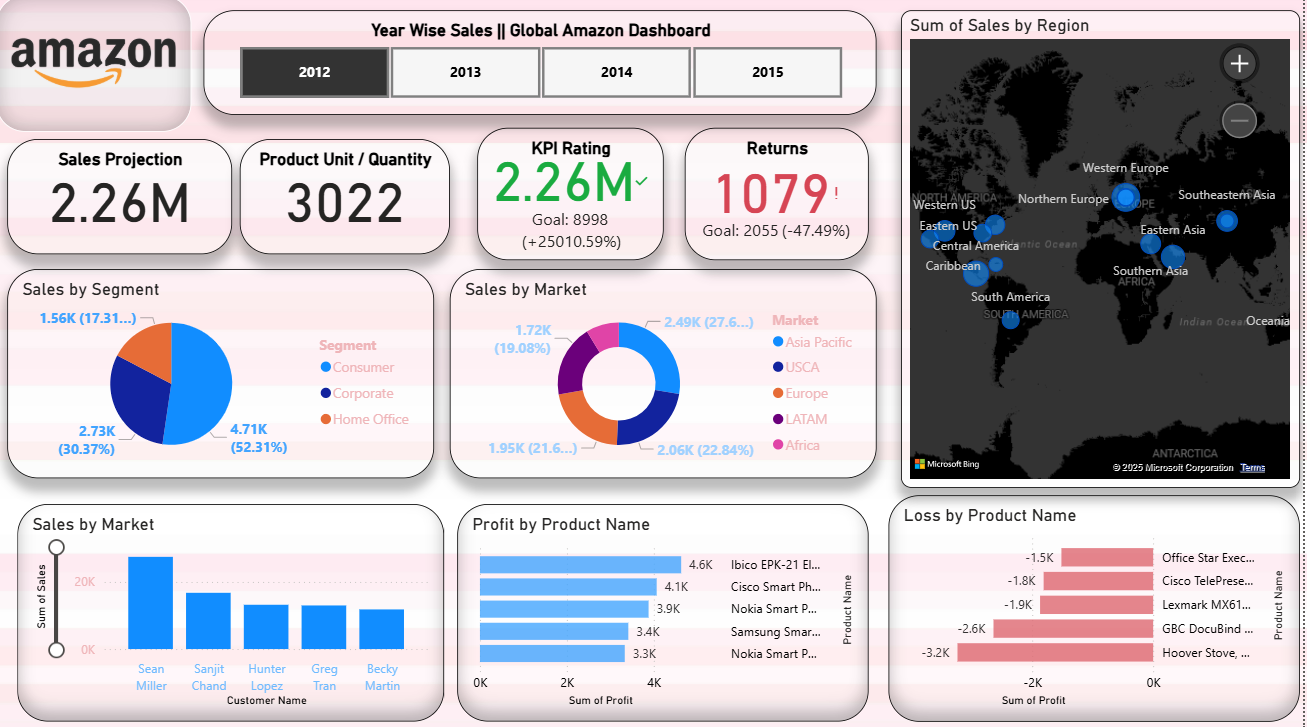

The dashboard page shown, as its layout file describes it:
{"tool":"powerbi","page":{"name":"Duplicate of Page 1","canvas":[1280,720],"ordinal":1},"visuals":[{"type":"slicer","title":"Year Wise Sales || Global Amazon Dashboard","fields":{"Values":["Orders.Year"]},"box":[202.5,16.2,658.8,102.5],"z":0},{"type":"kpi","title":"Returns","fields":{"Indicator":["Returns.Returned"],"Goal":["Orders.Target year"],"TrendLine":["Orders.Market"]},"box":[673.8,130.8,179.8,129.6],"z":1000},{"type":"kpi","title":"KPI Rating","fields":{"Indicator":["Orders.Sales"],"TrendLine":["Orders.Year"],"Goal":["Orders.Target year"]},"box":[470.8,130.8,182.2,129.6],"z":2000},{"type":"card","title":"Sales Projection","fields":{"Values":["Orders.Sales"]},"box":[11.2,141.2,220,112.5],"z":3000},{"type":"card","title":"Product Unit / Quantity","fields":{"Values":["Orders.Product Name"]},"box":[238.5,141.8,205.4,112.5],"z":4000},{"type":"image","box":[0,1.2,191.2,133.8],"z":5000},{"type":"pieChart","title":"Sales by Segment","fields":{"Y":["Orders.Year"],"Category":["Orders.Segment"]},"box":[11.2,268.8,417.5,205],"z":6000},{"type":"donutChart","title":"Sales by Market","fields":{"Y":["Orders.Year"],"Category":["Orders.Market"]},"box":[443.8,268.8,417.5,205],"z":7000},{"type":"clusteredBarChart","title":"Loss by Product Name","fields":{"Category":["Orders.Product Name"],"Y":["Orders.Profit"]},"box":[872.5,490,402.5,221.2],"z":8000},{"type":"clusteredBarChart","title":"Profit by Product Name","fields":{"Category":["Orders.Product Name"],"Y":["Orders.Profit"]},"box":[451.2,498.8,402.5,212.5],"z":9000},{"type":"map","fields":{"Category":["Orders.Region"],"Size":["Orders.Sales"]},"box":[885,16.2,390,467.5],"z":10000},{"type":"columnChart","title":"Sales by Market","fields":{"Category":["Orders.Customer Name"],"Y":["Orders.Sales"]},"box":[21.2,498.8,417.5,212.5],"z":11000}]}

Visuals, with their boxes in screenshot pixels (x1, y1, x2, y2), scaled from the page's 1280x720 canvas onto the 1307x727 screenshot:
"Year Wise Sales || Global Amazon Dashboard" slicer: bbox=(207, 16, 879, 120)
"Returns" kpi: bbox=(688, 132, 872, 263)
"KPI Rating" kpi: bbox=(481, 132, 667, 263)
"Sales Projection" card: bbox=(11, 143, 236, 256)
"Product Unit / Quantity" card: bbox=(244, 143, 453, 257)
image: bbox=(0, 1, 195, 136)
"Sales by Segment" pieChart: bbox=(11, 271, 438, 478)
"Sales by Market" donutChart: bbox=(453, 271, 879, 478)
"Loss by Product Name" clusteredBarChart: bbox=(891, 495, 1302, 718)
"Profit by Product Name" clusteredBarChart: bbox=(461, 504, 872, 718)
map - Orders.Region x Orders.Sales: bbox=(904, 16, 1302, 488)
"Sales by Market" columnChart: bbox=(22, 504, 448, 718)
